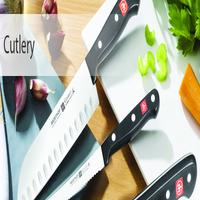knife: (17, 24, 119, 199), (47, 89, 169, 197)
